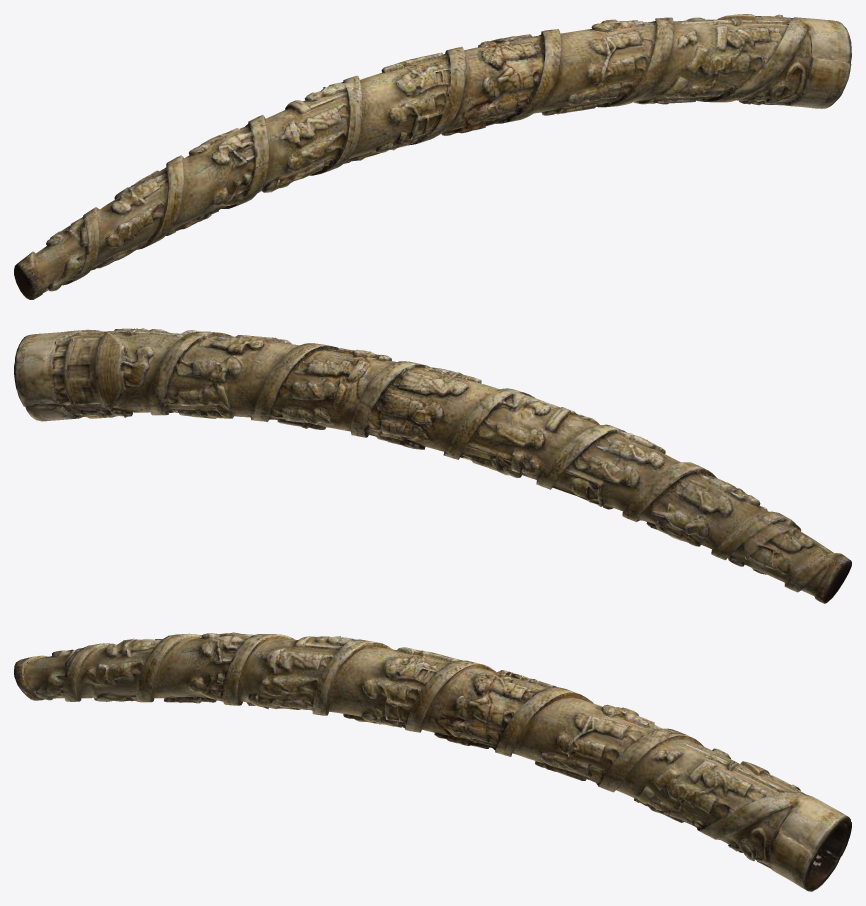
The model's file is tusk-20k-512-thumb.glb.
The picture shows the model from 3 angles, top to bottom: view 1: azimuth 30°, elevation 25°; view 2: azimuth 150°, elevation 25°; view 3: azimuth 330°, elevation 25°; orthographic projection. The views are drawn at different scales.
Size of the model in its own units: 73.61 by 12.14 by 6.51.
Materials: 1 (1 with a texture image).
